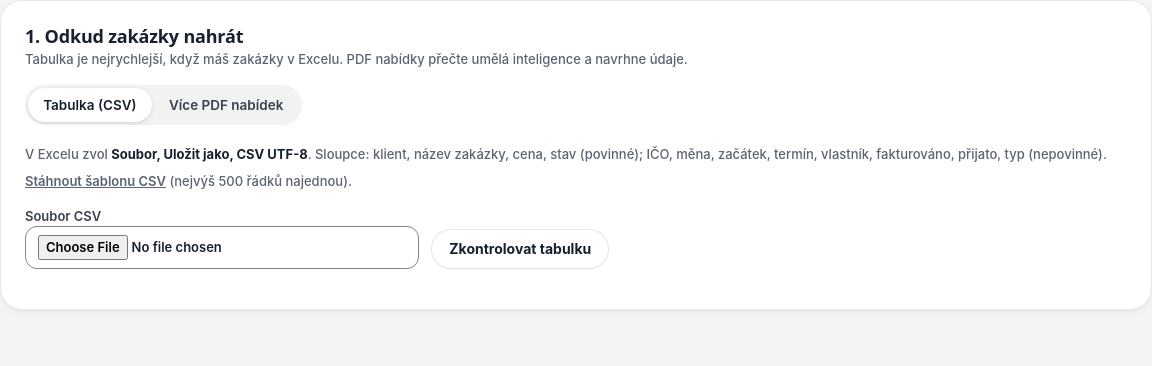
Test: BulkImport: zdroje › bez klíče Anthropic je PDF část skrytá s vysvětlením a tabulka funguje
The width and height of the screenshot is (1152, 366).
Expected: the link to "/cockpit/import/zakazky/sablona" is shown, [25,173,166,189]
Expected: the text "Čtení PDF není zapnuté" is not shown
Click the button "Více PDF nabídek": (226, 105) [154,88,299,122]
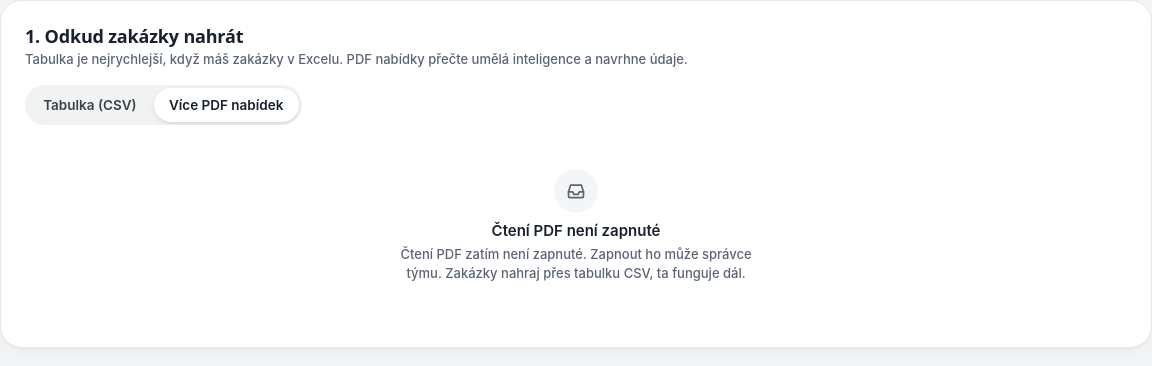
Expected: the text "Čtení PDF není zapnuté" is shown, [492,221,660,240]
Expected: the text "Zapnout ho může správce týmu" is shown, [400,246,752,281]
Click the button "Tabulka (CSV)": (90, 105) [28,88,152,122]
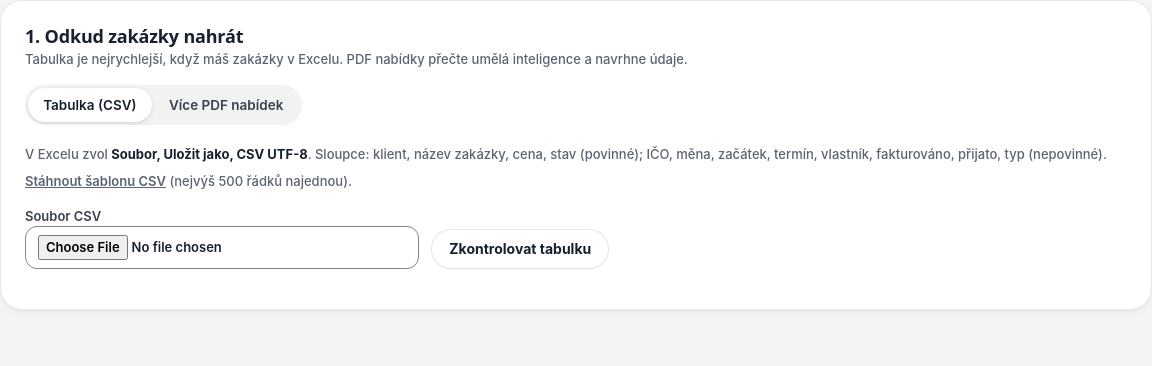
Expected: the file field labelled "Soubor CSV" is shown, [25,226,419,269]
